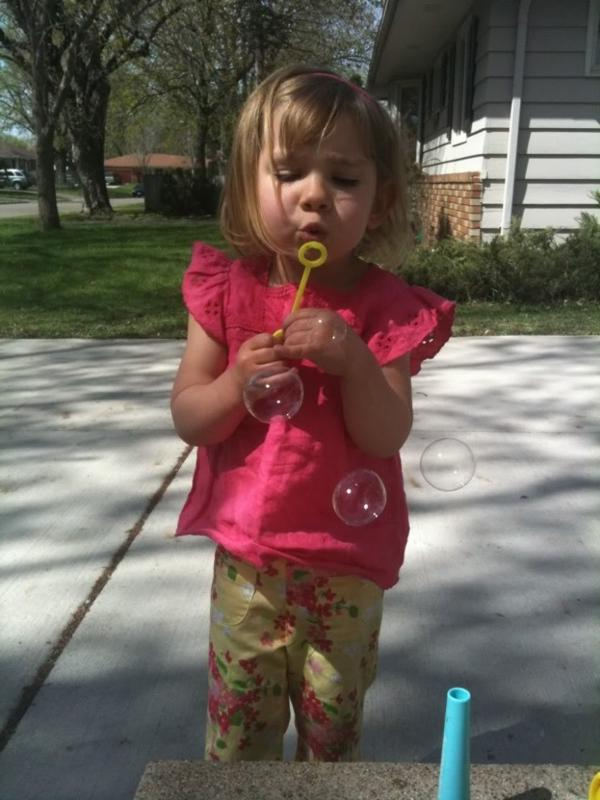person: (167, 60, 460, 780)
